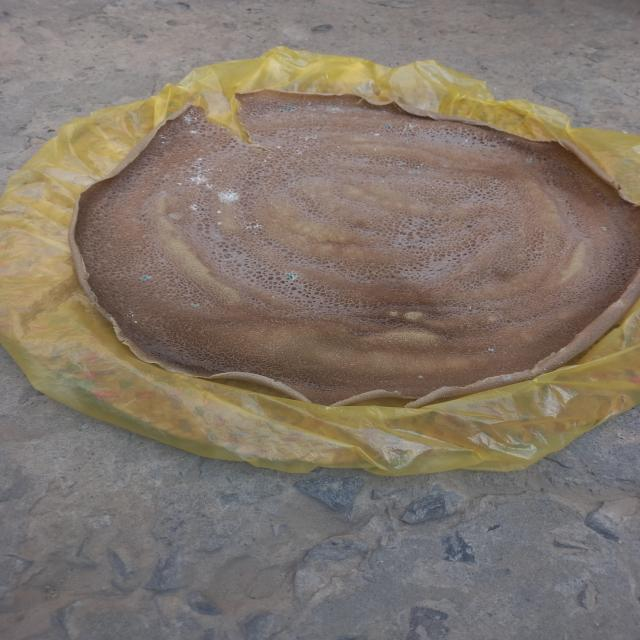injera_mold: (174, 158, 214, 188), (217, 187, 241, 204), (122, 309, 141, 326), (242, 220, 266, 233), (180, 110, 203, 122), (282, 272, 302, 282), (326, 105, 345, 114), (137, 273, 154, 283), (185, 202, 201, 212), (189, 300, 202, 312), (300, 135, 318, 142), (598, 224, 609, 235), (292, 146, 304, 156), (285, 105, 297, 112), (525, 157, 535, 165), (486, 347, 495, 355), (304, 105, 314, 112), (409, 170, 420, 175), (418, 374, 425, 381), (190, 128, 196, 136), (384, 124, 392, 130), (216, 210, 223, 216), (417, 164, 425, 169), (217, 221, 223, 225), (274, 146, 282, 149), (398, 167, 405, 170), (406, 138, 411, 142), (279, 109, 284, 113), (263, 159, 268, 163)
